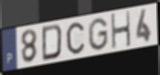4: (136, 8, 153, 45)
8: (20, 28, 39, 64)
C: (65, 21, 86, 56)
D: (41, 23, 64, 63)
G: (87, 17, 109, 52)
H: (110, 10, 132, 51)
